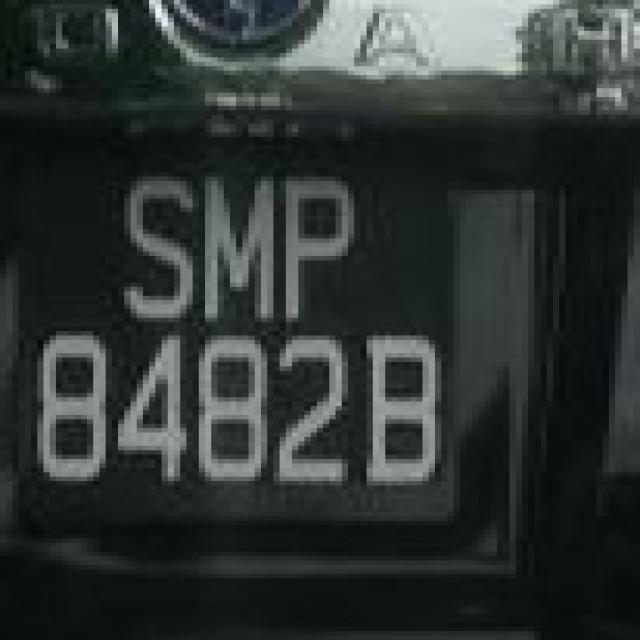2: (275, 336, 352, 481)
4: (117, 330, 191, 482)
8: (34, 331, 112, 481), (195, 330, 272, 480)
B: (360, 330, 443, 485)
M: (206, 172, 278, 324)
P: (277, 171, 358, 320)
S: (112, 172, 205, 324)
